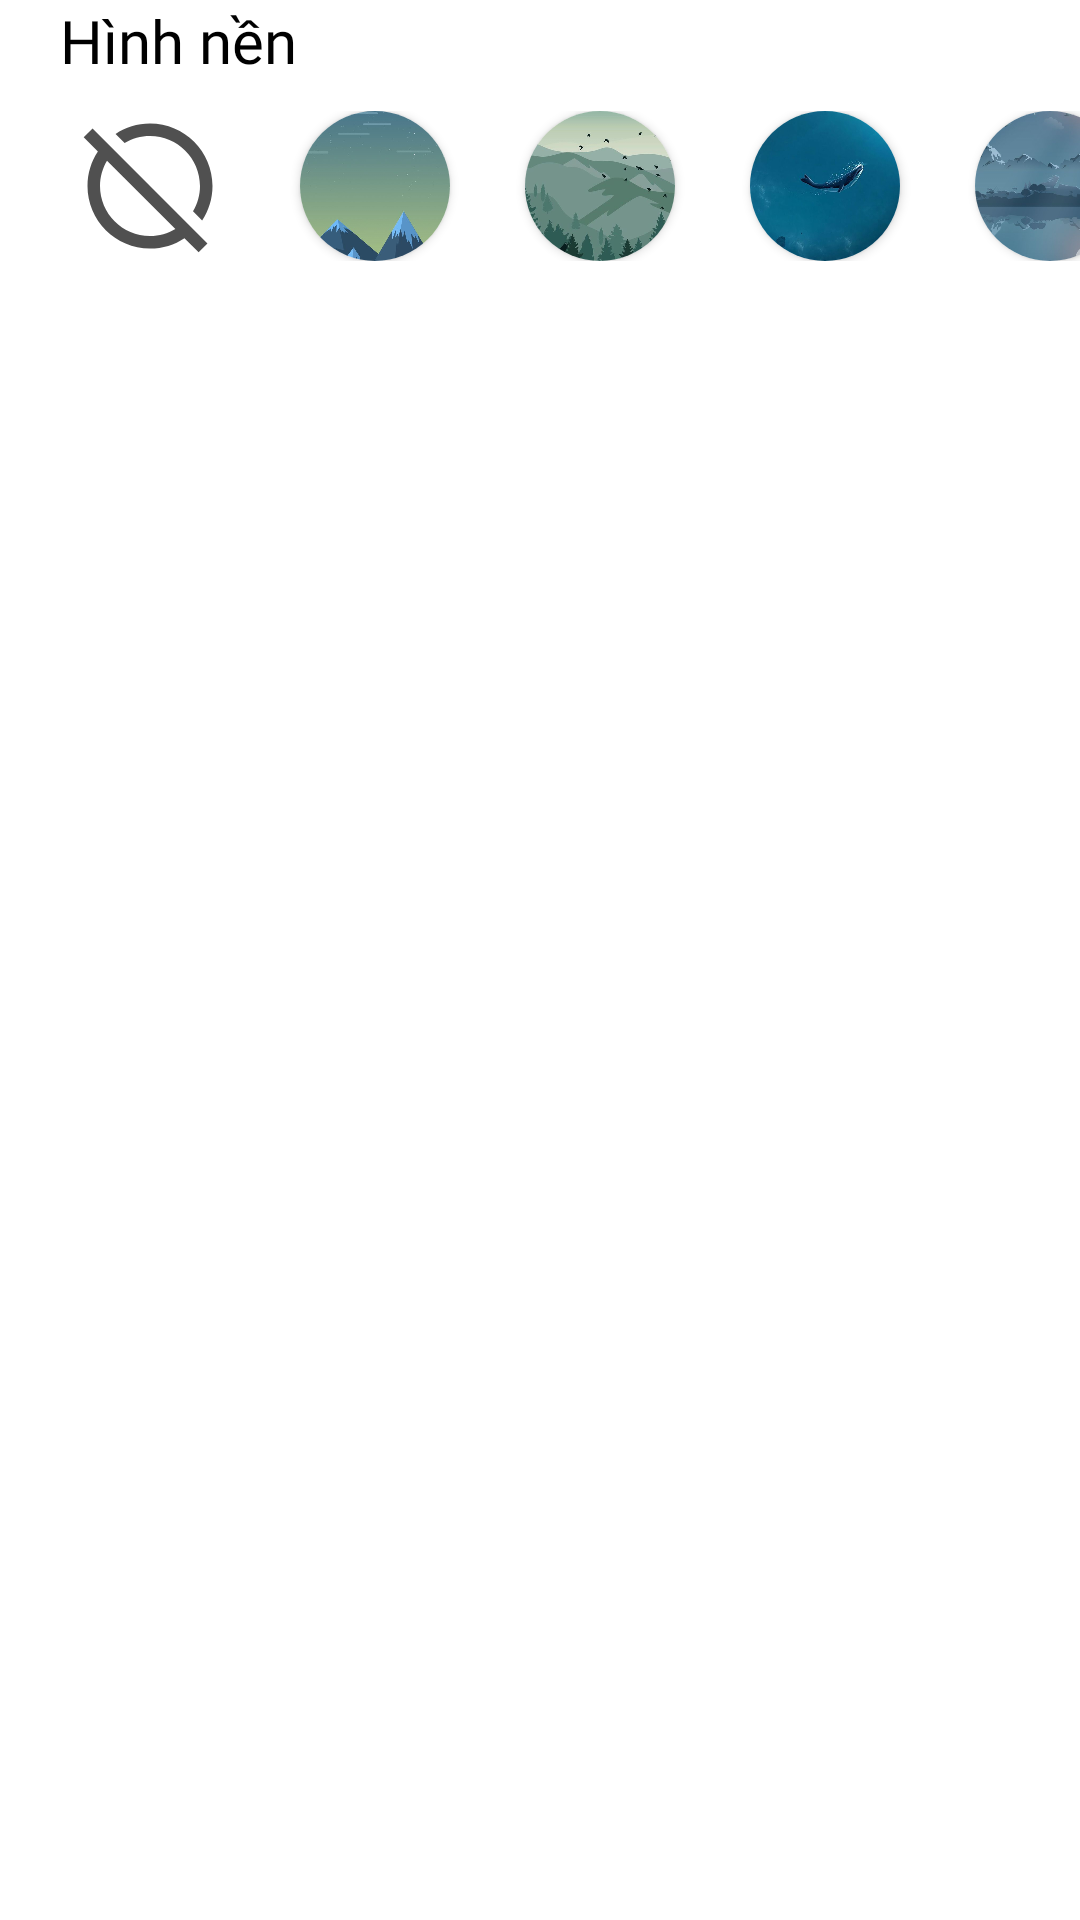

Screen size 1080x1920. Icon name, then its box in pixels as (x1, y1, x2, y2):
hide source: (84, 123, 213, 252)
